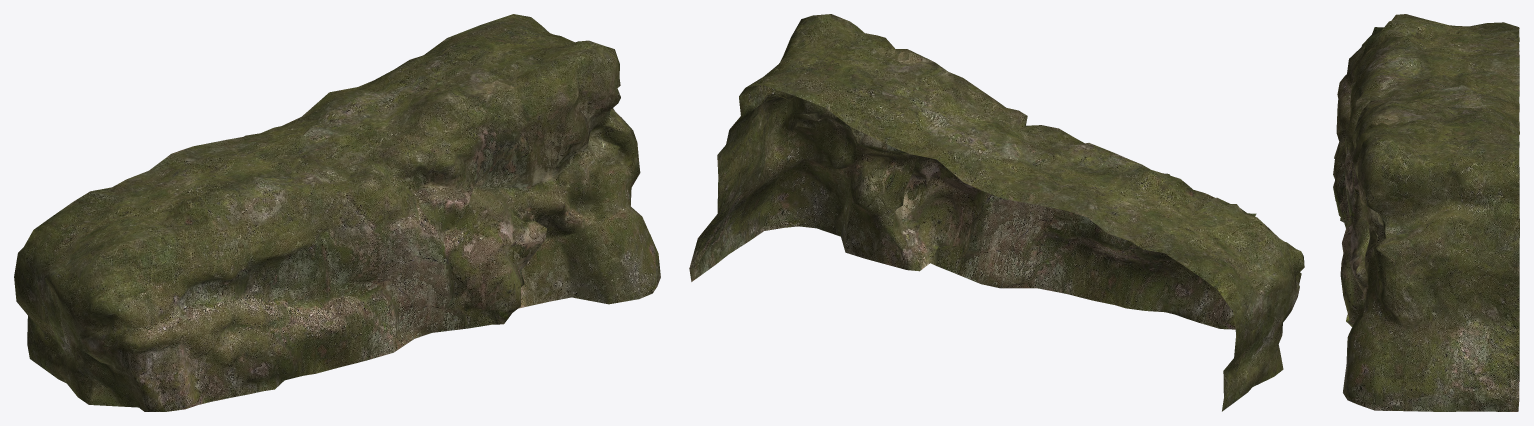
File: cliff_b.glb
The picture shows the model from 3 angles, left to right: view 1: azimuth 30°, elevation 25°; view 2: azimuth 150°, elevation 25°; view 3: azimuth 270°, elevation 25°; orthographic projection. The views are drawn at different scales.
Visible parts, largest first — view 1: cliffB_S_Nordic_Forest_Cliff_Large_xibsff1_lod3_LOD0; view 2: cliffB_S_Nordic_Forest_Cliff_Large_xibsff1_lod3_LOD0; view 3: cliffB_S_Nordic_Forest_Cliff_Large_xibsff1_lod3_LOD0.
Part boxes in pixels (bbox=[...]): cliffB_S_Nordic_Forest_Cliff_Large_xibsff1_lod3_LOD0: bbox=[14, 14, 660, 411]; cliffB_S_Nordic_Forest_Cliff_Large_xibsff1_lod3_LOD0: bbox=[689, 14, 1304, 411]; cliffB_S_Nordic_Forest_Cliff_Large_xibsff1_lod3_LOD0: bbox=[1333, 14, 1519, 411].
Bounding box in the file's own units: 19.57 × 8.01 × 5.65.
Materials: 1 (1 with a texture image).
